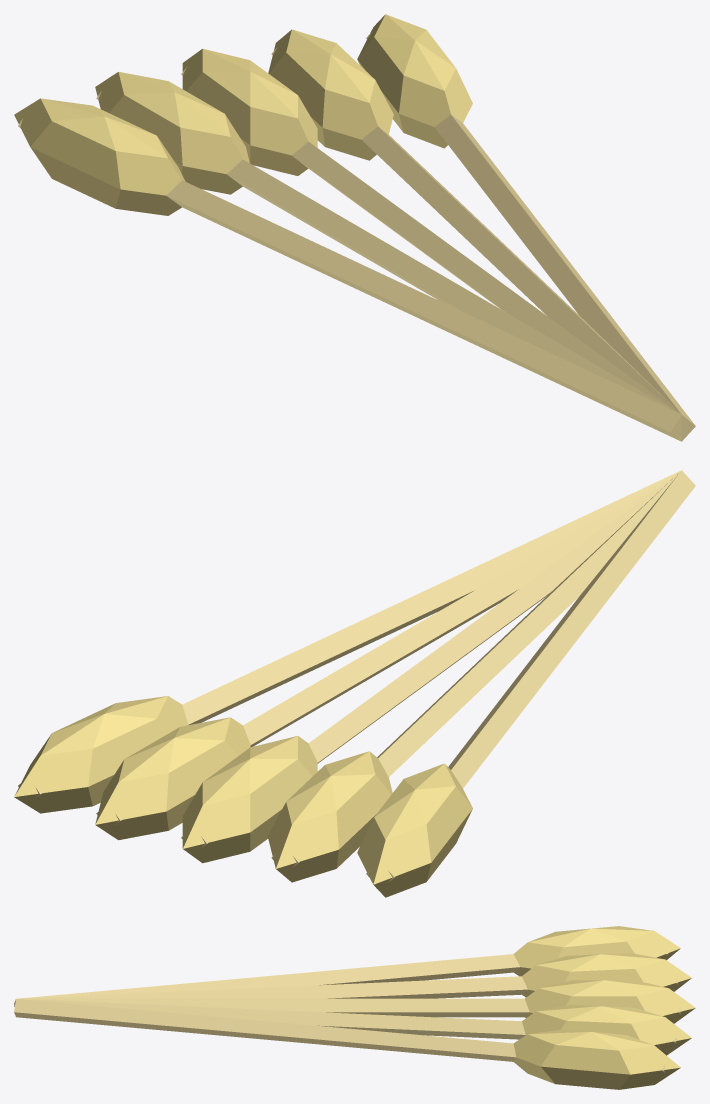
Rendered from wheat_held.gltf.
3 views of the same model, one above another, from view 1: azimuth 30°, elevation 25°; view 2: azimuth 150°, elevation 25°; view 3: azimuth 270°, elevation 25° (orthographic). The views are drawn at different scales.
Visible parts, largest first — view 1: farm_wheat_held; view 2: farm_wheat_held; view 3: farm_wheat_held.
Part boxes in pixels (bbox=[...]): farm_wheat_held: bbox=[14, 14, 695, 441]; farm_wheat_held: bbox=[14, 470, 695, 897]; farm_wheat_held: bbox=[14, 926, 695, 1089].
Size of the model in its own units: 0.1235 by 0.024 by 0.2668.
